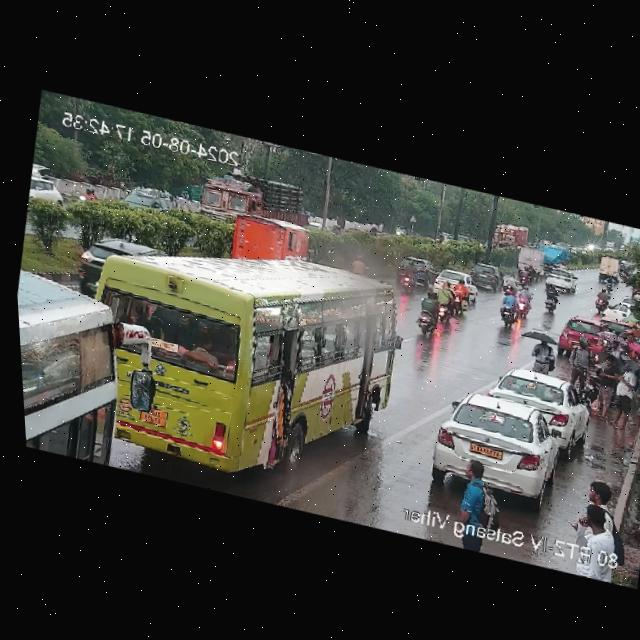bus: (35, 208, 406, 478), (15, 261, 166, 470)
car: (423, 383, 579, 506), (488, 362, 593, 438), (556, 313, 607, 354), (121, 187, 178, 221), (25, 171, 66, 216), (429, 265, 477, 300), (594, 296, 634, 326), (541, 267, 582, 295), (462, 259, 500, 280), (467, 270, 501, 291), (416, 258, 437, 288)
motorcycle: (412, 292, 450, 339), (492, 288, 526, 329), (433, 279, 455, 319), (399, 257, 419, 296), (539, 287, 565, 316), (451, 277, 471, 314), (592, 286, 610, 316), (348, 252, 368, 276), (517, 264, 536, 285), (503, 271, 518, 291), (80, 186, 96, 204), (604, 274, 617, 293), (329, 224, 342, 235), (433, 233, 444, 246), (369, 225, 378, 237), (405, 226, 413, 234)
person: (440, 456, 509, 529), (563, 476, 625, 557), (597, 358, 640, 427), (590, 353, 627, 420), (558, 336, 601, 389), (528, 332, 562, 375), (606, 338, 622, 355), (638, 347, 640, 398)
truck: (179, 163, 324, 243), (211, 205, 312, 274), (488, 221, 528, 256), (537, 239, 575, 270), (517, 241, 547, 268), (595, 252, 621, 279)
